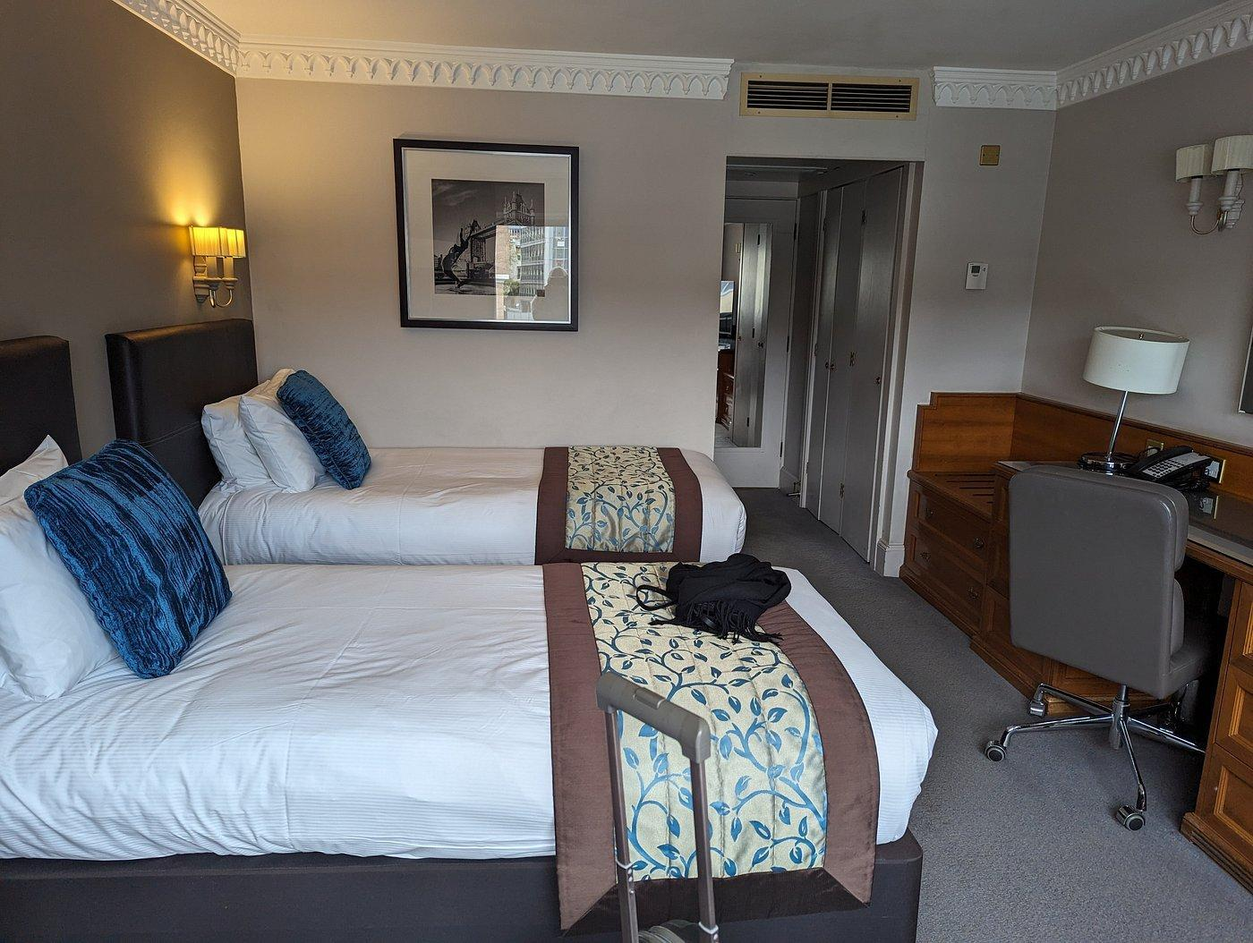chair: (1007, 473, 1210, 829)
clean_bed: (109, 322, 744, 565)
clean_floor: (732, 486, 1252, 942)
lamp: (1068, 327, 1193, 473)
organised_pillow: (0, 446, 228, 684), (204, 370, 374, 494)
